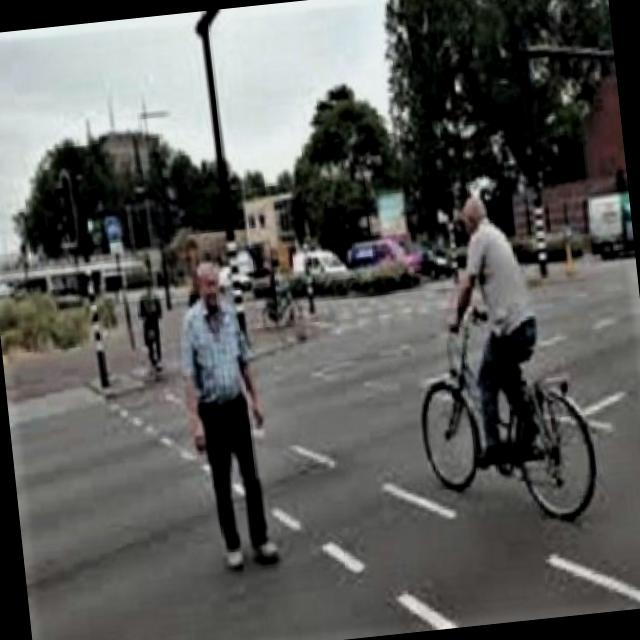Person: (168, 258, 282, 577), (429, 183, 554, 463)
